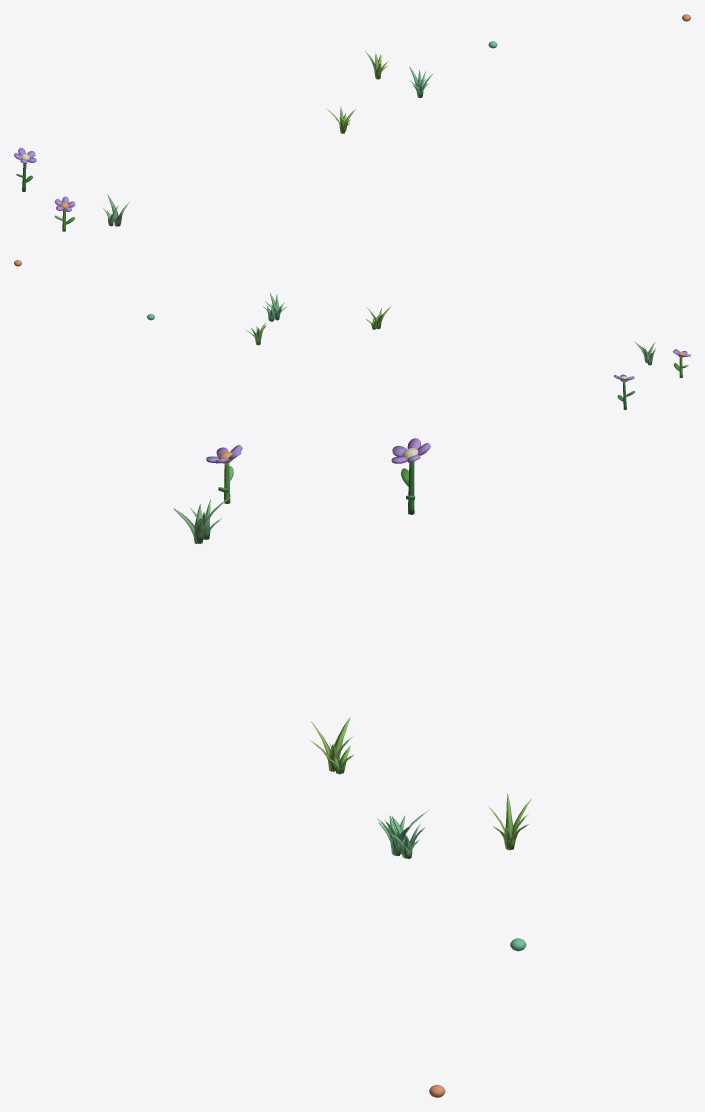
Rendered from W4_FloraRing_10_11.fbx.
3 views of the same model, one above another, from view 1: azimuth 30°, elevation 25°; view 2: azimuth 150°, elevation 25°; view 3: azimuth 270°, elevation 25° (orthographic). The views are drawn at different scales.
Visible parts, largest first — view 1: W4_FloraRing_10_11; view 2: W4_FloraRing_10_11; view 3: W4_FloraRing_10_11.
Boxes of the visible parts, x1,y1,x2,y2 form: W4_FloraRing_10_11: [14, 14, 690, 231]; W4_FloraRing_10_11: [14, 260, 690, 409]; W4_FloraRing_10_11: [173, 438, 531, 1097].
Bounding box in the file's own units: 3.55 × 0.1962 × 0.8895.
